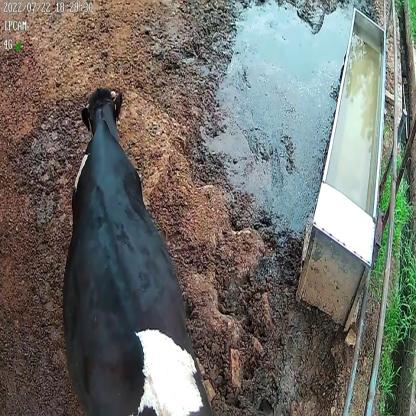cow: (59, 84, 212, 416)
